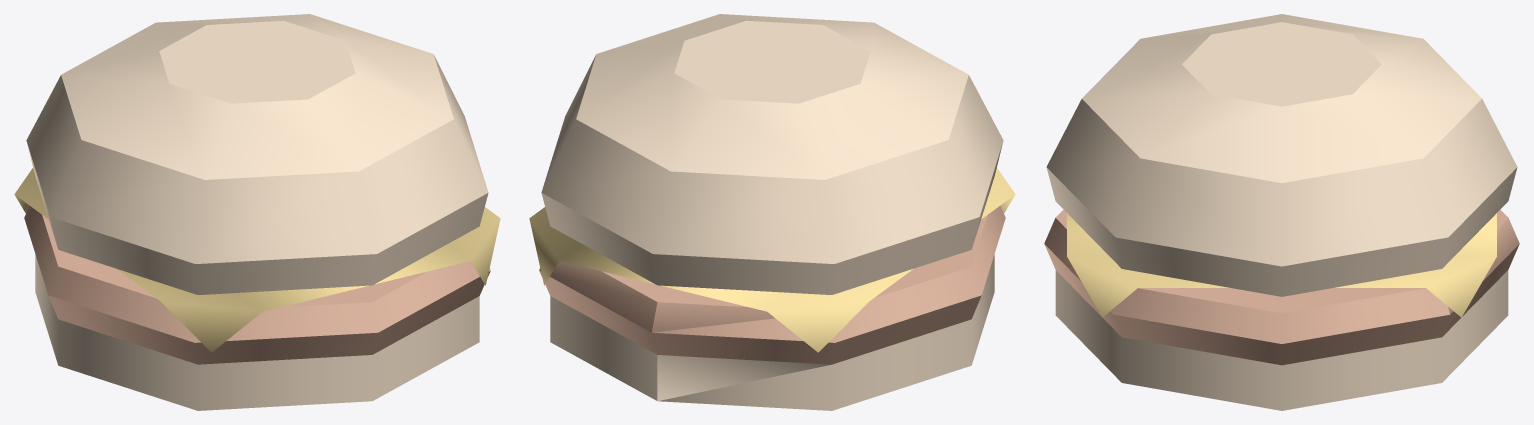
Rendered from burger.glb.
The picture shows the model from 3 angles, left to right: view 1: azimuth 30°, elevation 25°; view 2: azimuth 150°, elevation 25°; view 3: azimuth 270°, elevation 25°; orthographic projection.
Visible parts, largest first — view 1: burgerCheese; view 2: burgerCheese; view 3: burgerCheese.
Part boxes in pixels (x1,y1,x2,y2): burgerCheese: (14, 14, 500, 410); burgerCheese: (529, 14, 1015, 410); burgerCheese: (1044, 14, 1519, 410).
Bounding box in the file's own units: 0.378 × 0.22 × 0.378.
